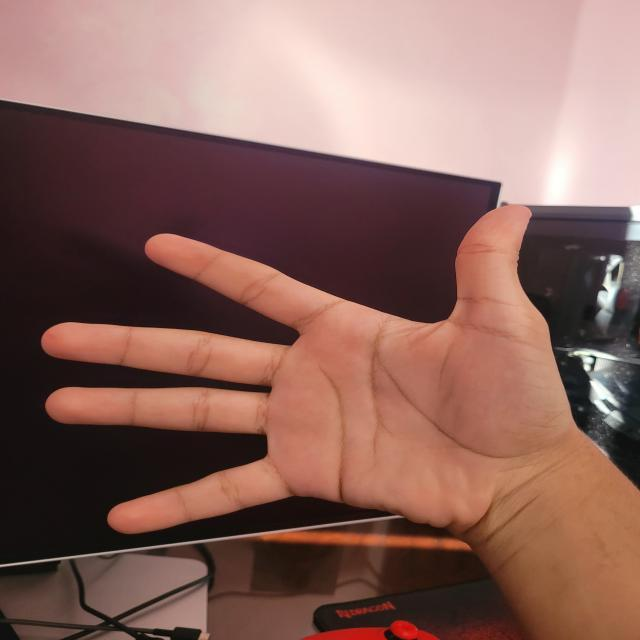Open Hand: (42, 204, 574, 536)
